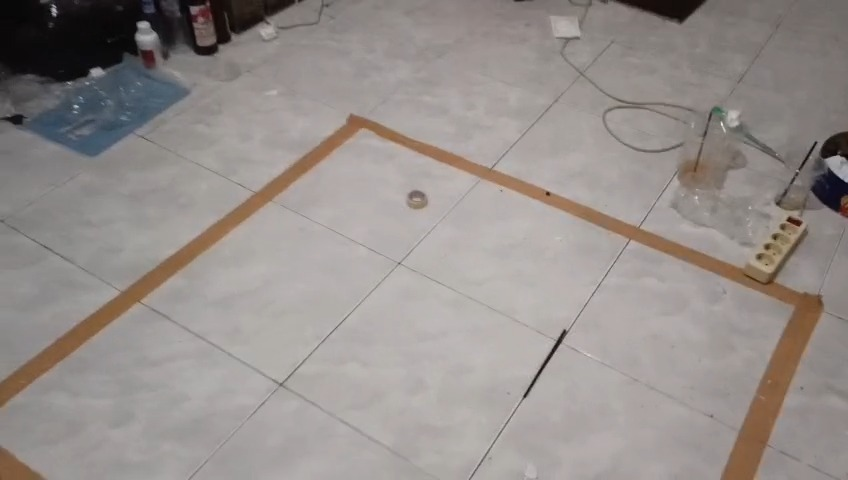floor marking: (0, 115, 823, 479)
